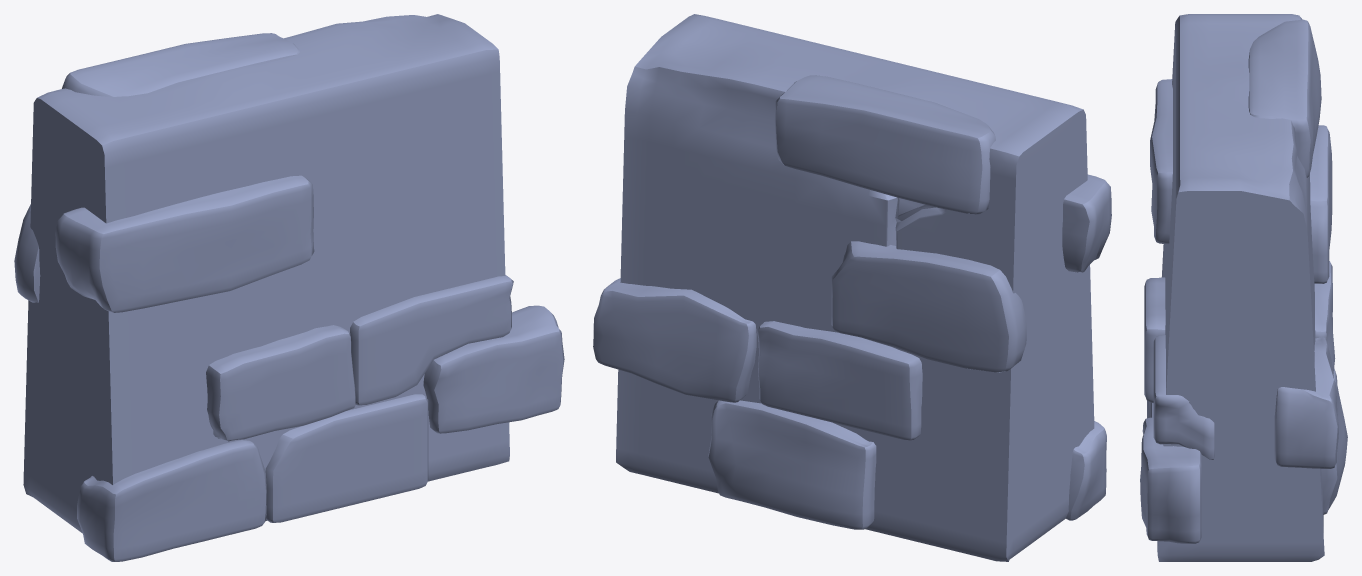
The model's file is Wall_S_1.fbx.
3 renders of one model, left to right at view 1: azimuth 30°, elevation 25°; view 2: azimuth 150°, elevation 25°; view 3: azimuth 270°, elevation 25°, orthographic. The views are drawn at different scales.
Parts seen in each view (by area): view 1: wall_S_A; view 2: wall_S_A; view 3: wall_S_A.
Part boxes in pixels (bbox=[...]): wall_S_A: bbox=[14, 14, 564, 561]; wall_S_A: bbox=[593, 14, 1111, 561]; wall_S_A: bbox=[1140, 14, 1347, 561].
Bounding box in the file's own units: 0.6166 × 0.5112 × 0.2483.
